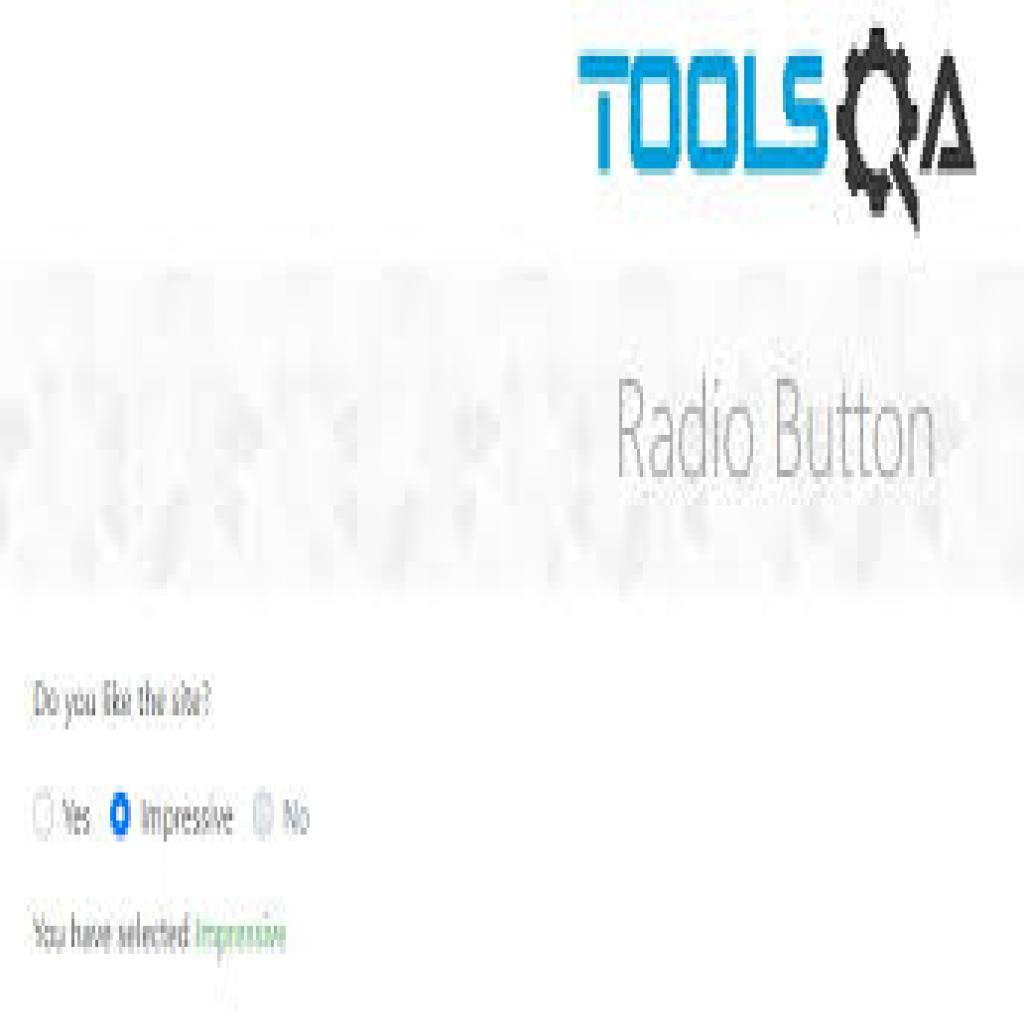radio: (30, 785, 60, 844), (111, 785, 134, 848), (251, 785, 275, 840)
